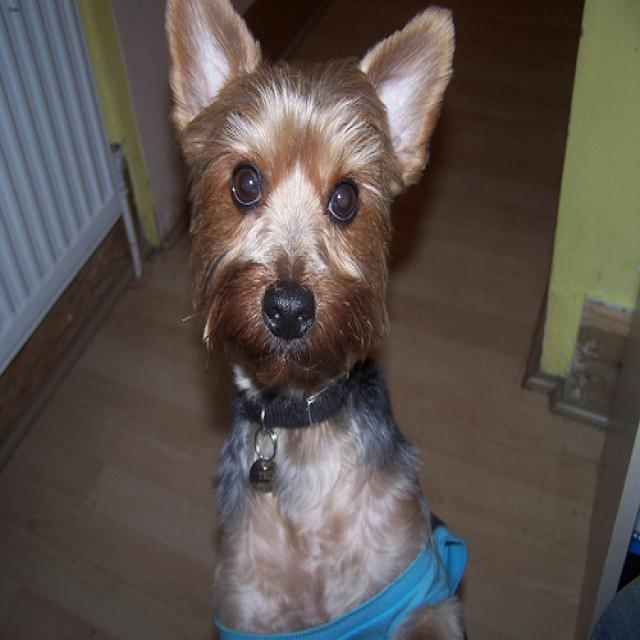dog-yorkshire_terrier: (163, 2, 465, 637)
